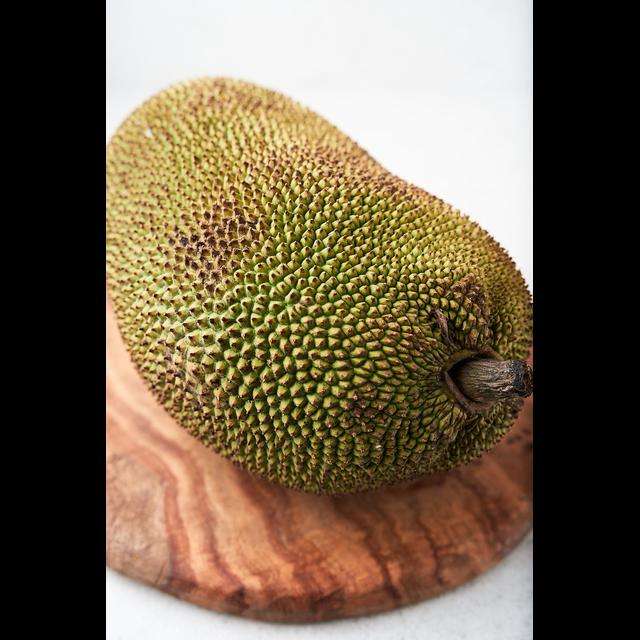mit: (106, 76, 533, 496)
